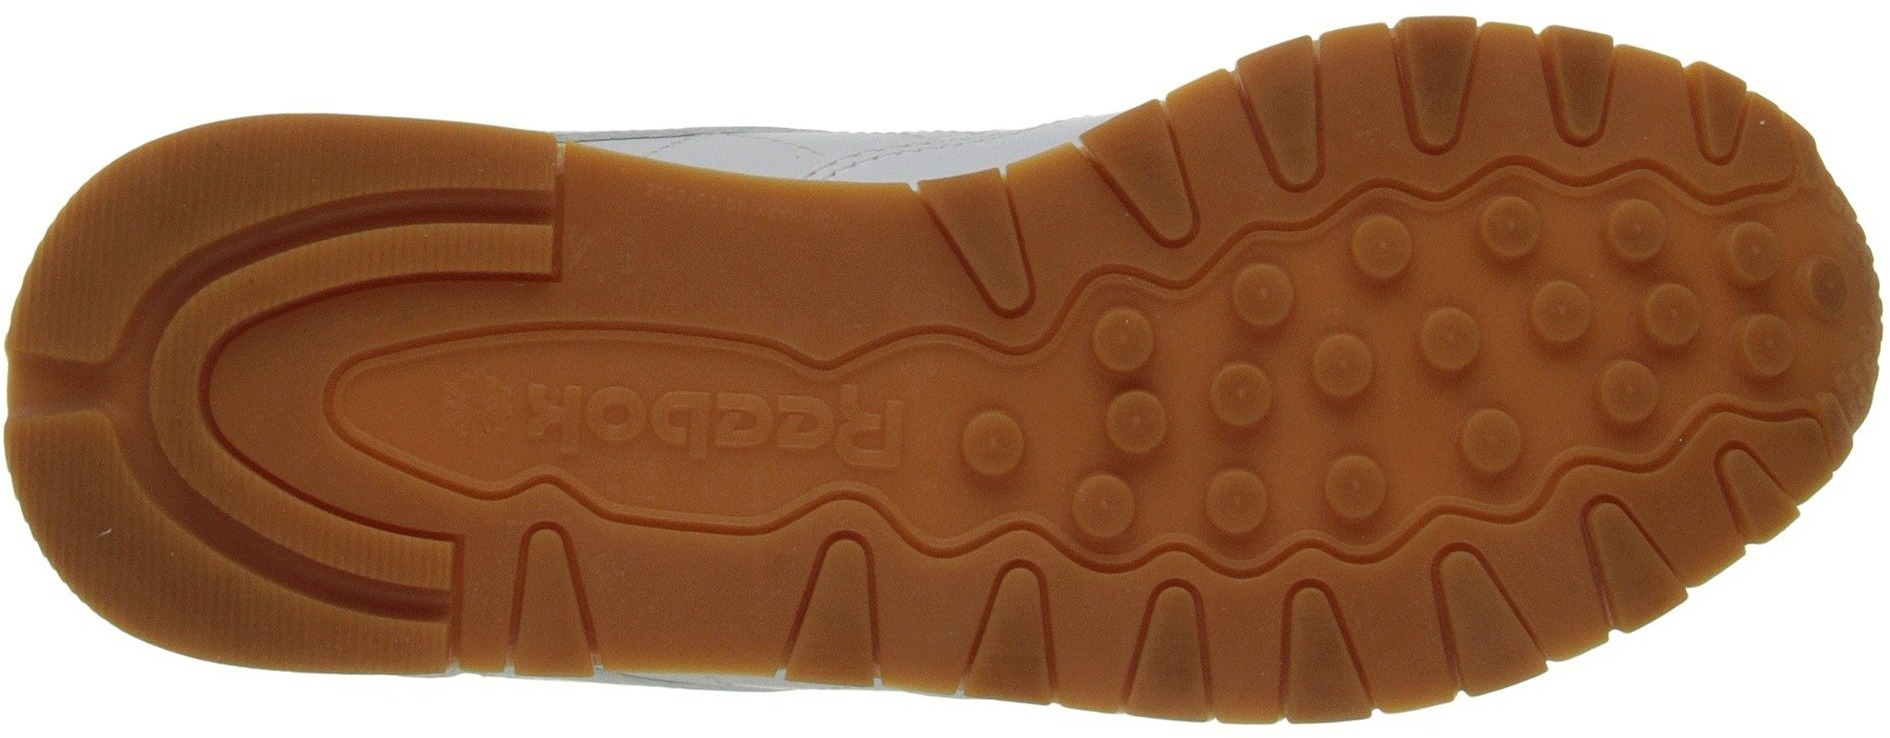chevron: (1414, 478, 1695, 708), (1226, 10, 1505, 232), (792, 525, 1085, 730)
circle: (1088, 289, 1386, 560), (1188, 252, 1420, 553), (1422, 209, 1690, 467), (486, 365, 722, 508), (1707, 200, 1863, 397), (934, 377, 1049, 508)
line: (35, 476, 196, 642), (67, 154, 236, 309)
other: (545, 133, 931, 316)
text: (493, 357, 922, 479), (486, 365, 722, 508), (714, 375, 915, 496)
triangle: (1414, 478, 1695, 708), (1226, 10, 1505, 232), (792, 525, 1085, 730), (453, 514, 644, 698), (1531, 39, 1782, 164), (1707, 422, 1837, 586)
